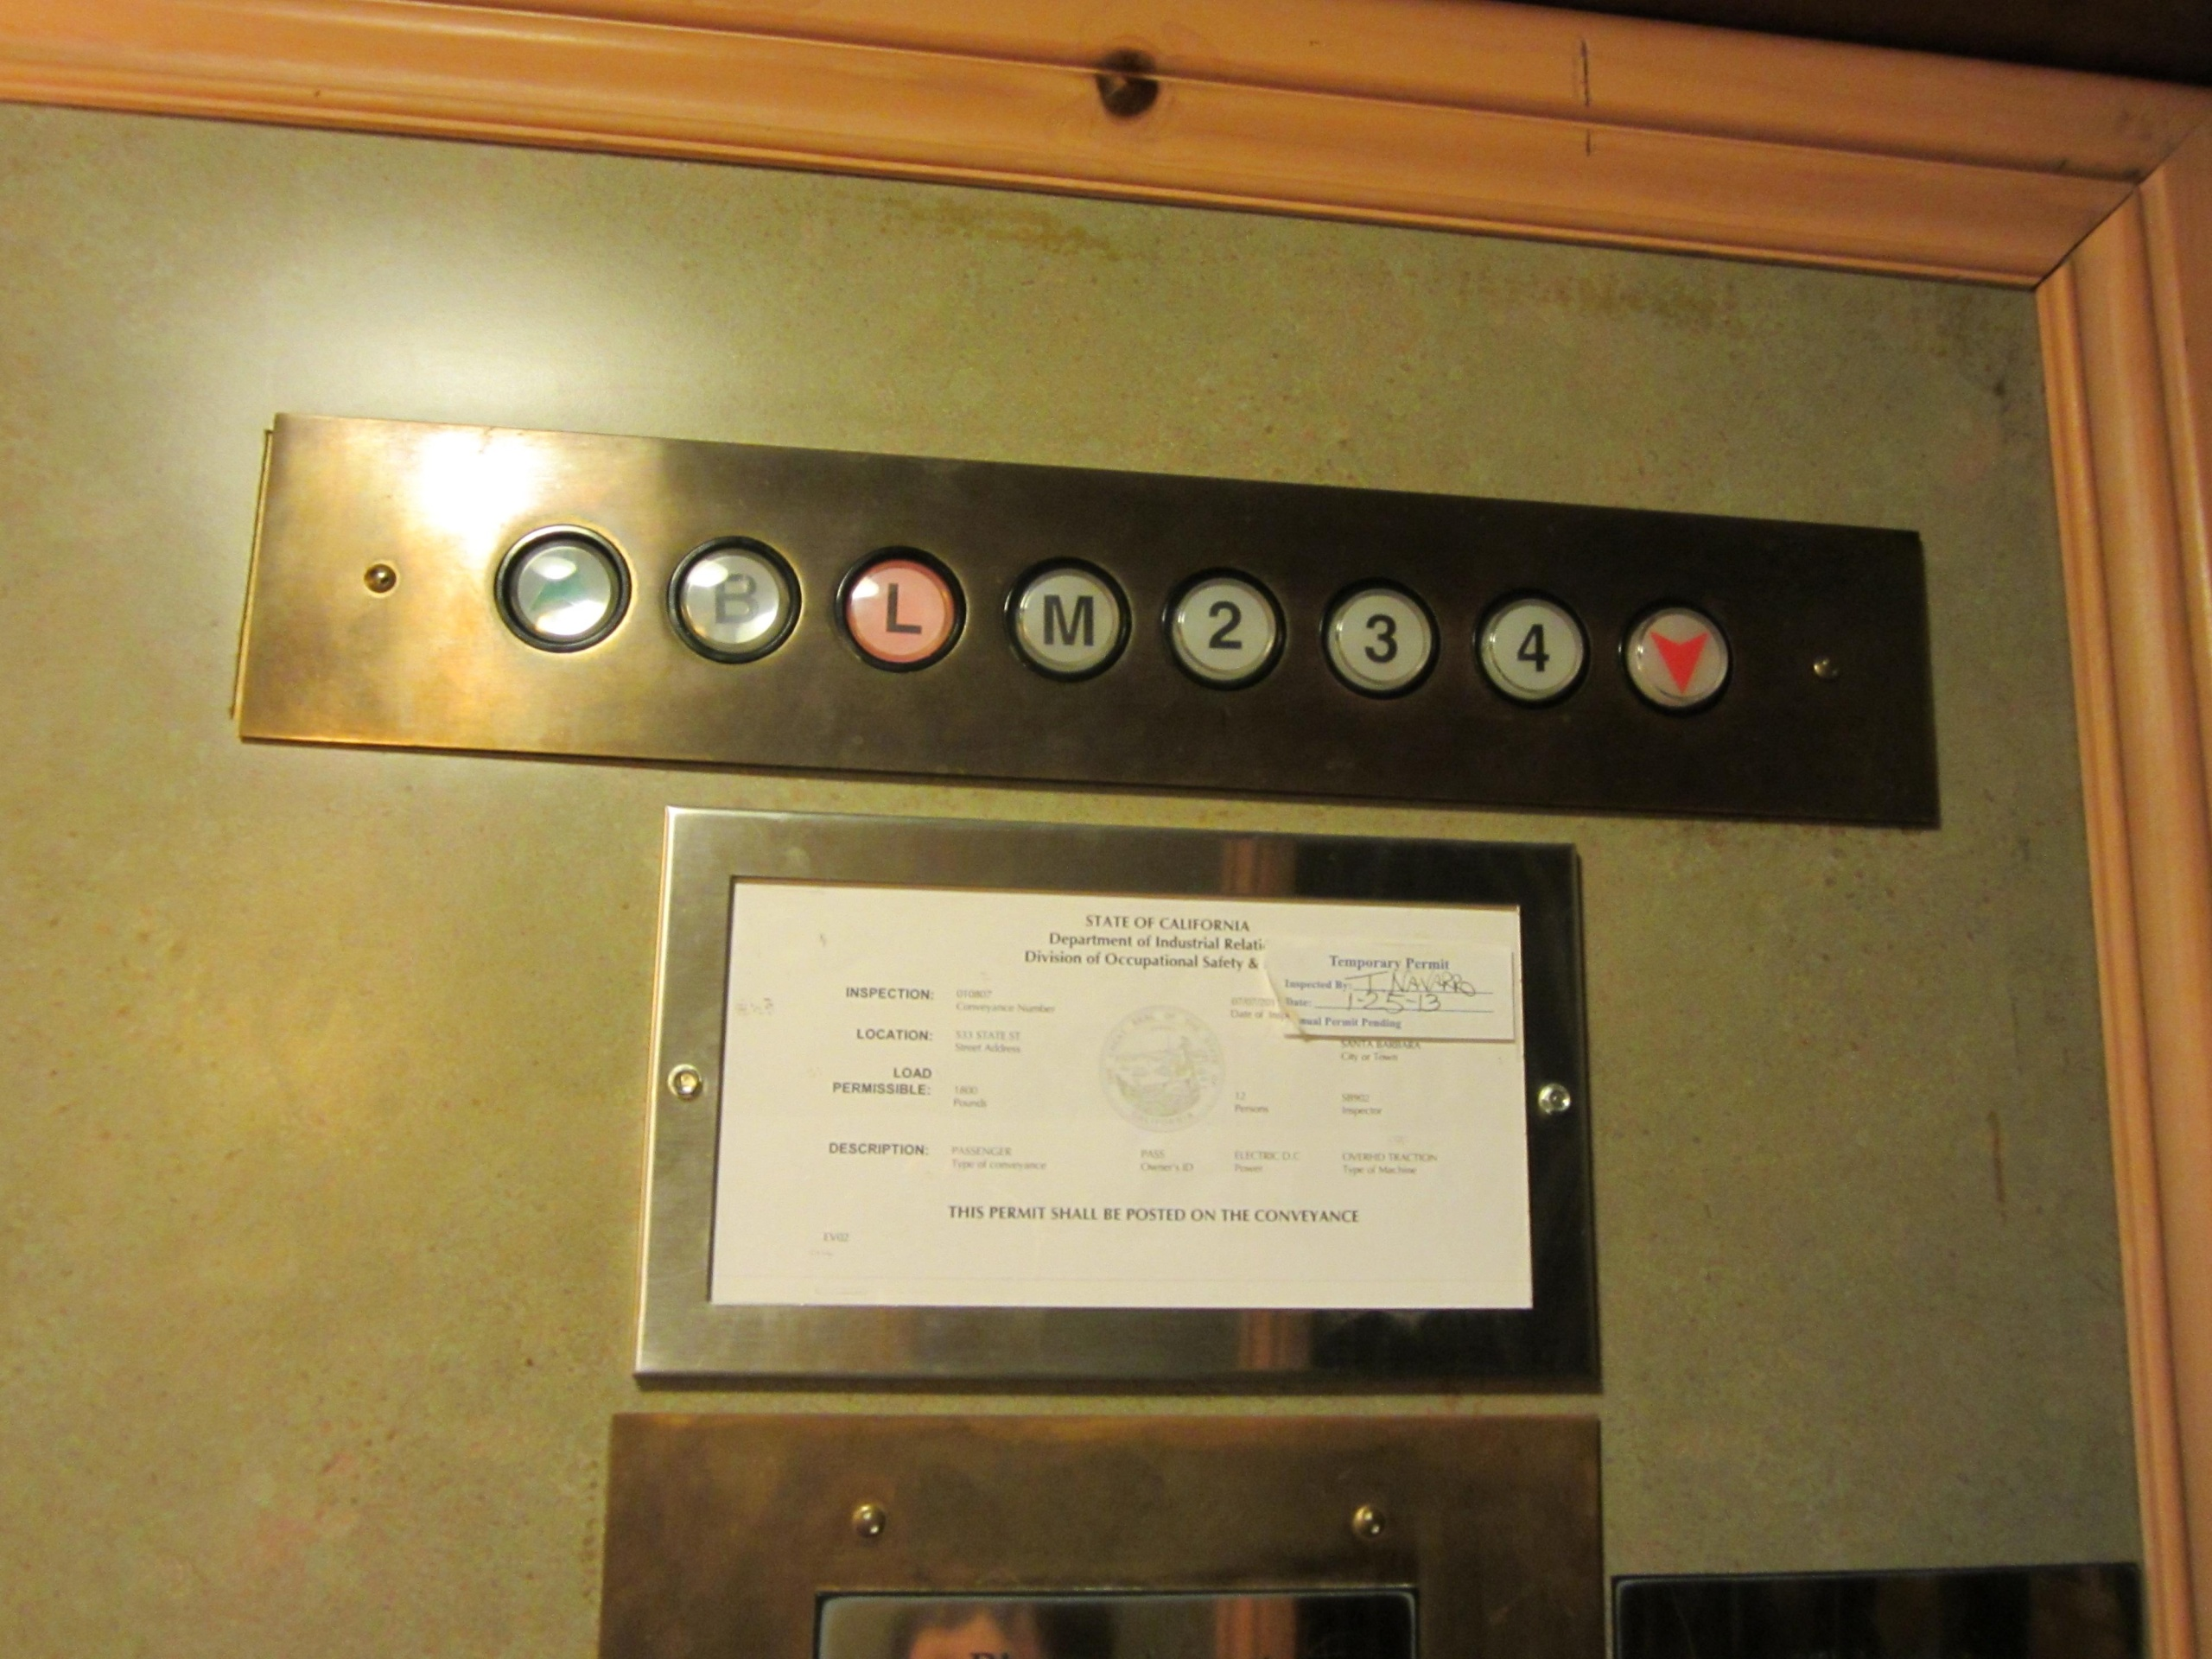2: (1158, 565, 1289, 692)
3: (1317, 575, 1442, 701)
4: (1468, 587, 1592, 711)
B: (664, 533, 803, 666)
L: (834, 544, 968, 674)
M: (1000, 554, 1132, 685)
down: (1615, 594, 1735, 720)
up: (491, 521, 634, 655)
